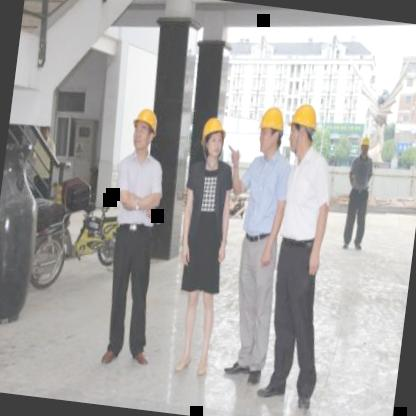helmet: (285, 98, 322, 158), (255, 100, 288, 156), (197, 112, 230, 164), (130, 103, 160, 153), (357, 128, 373, 157)
